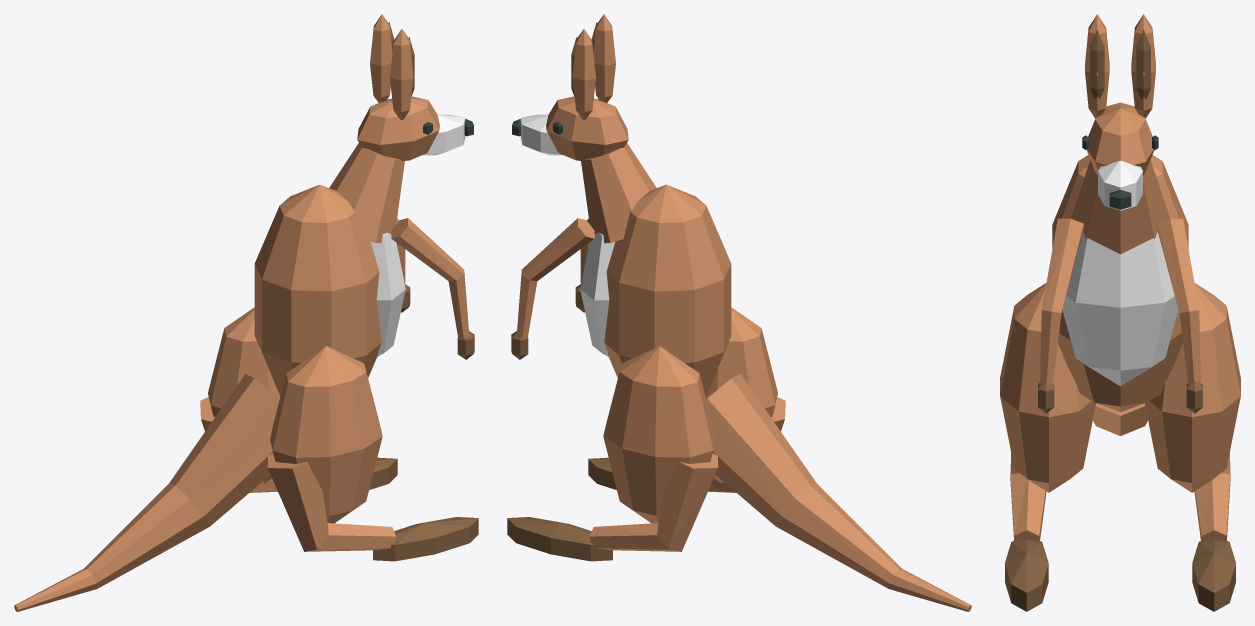
File: modern-red-kangaroo.d550796b8eaf.glb
3 views of the same model, side by side, from view 1: azimuth 30°, elevation 25°; view 2: azimuth 150°, elevation 25°; view 3: azimuth 270°, elevation 25° (orthographic). The views are drawn at different scales.
Parts seen in each view (by area): view 1: modern-red-kangaroo; view 2: modern-red-kangaroo; view 3: modern-red-kangaroo.
Part boxes in pixels (x1,y1,x2,y2): modern-red-kangaroo: (14,14,478,611); modern-red-kangaroo: (507,14,971,611); modern-red-kangaroo: (1000,14,1240,611).
Size of the model in its own units: 0.9508 by 1 by 0.3753.
